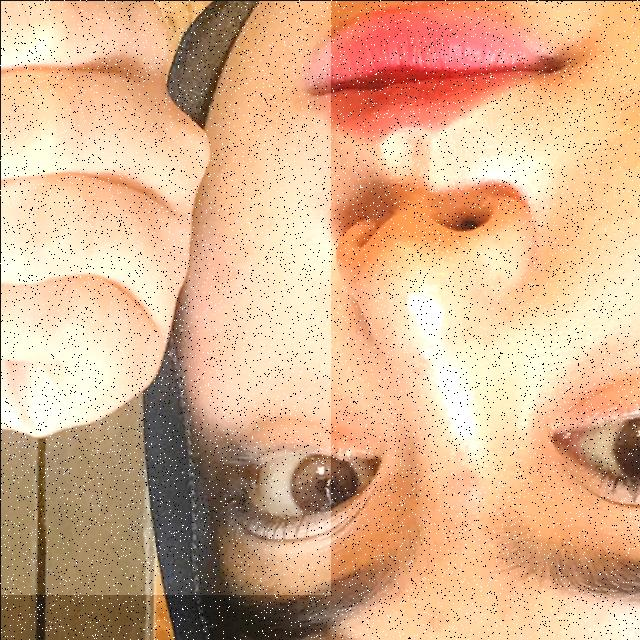sedih: (0, 0, 330, 594)
